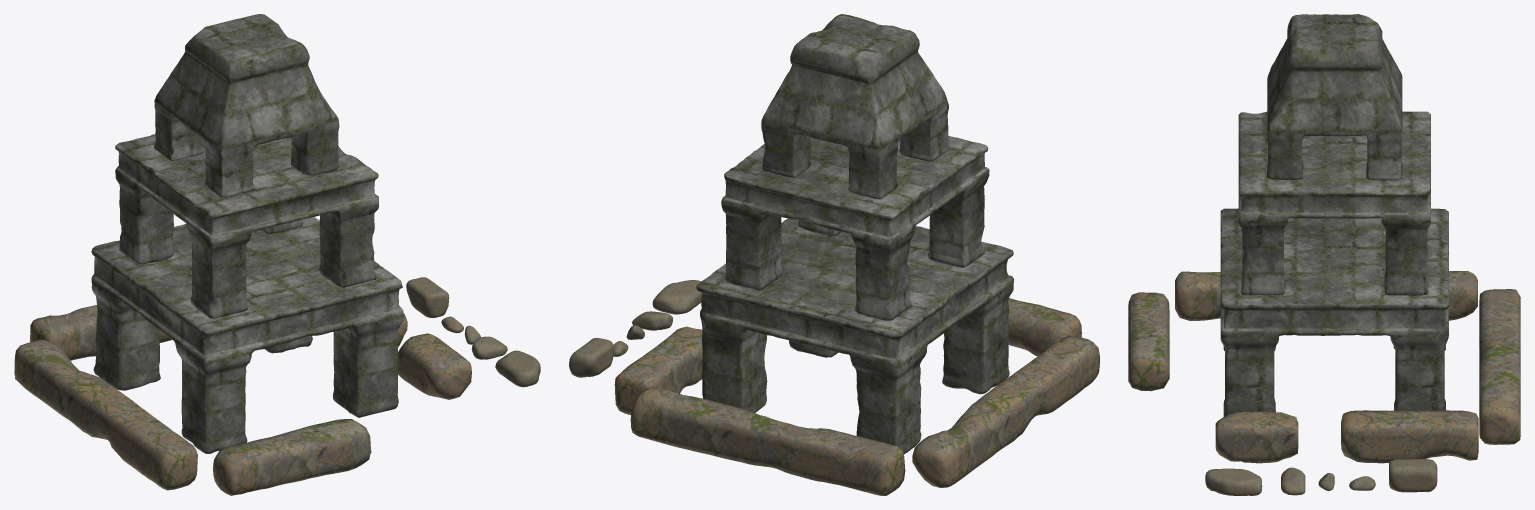
The model's file is oldRuinedTemple_edit_for_FBX.fbx.
3 views of the same model, side by side, from view 1: azimuth 30°, elevation 25°; view 2: azimuth 150°, elevation 25°; view 3: azimuth 270°, elevation 25° (orthographic). The views are drawn at different scales.
Parts seen in each view (by area): view 1: oldRuinedTemple_temple, oldRuinedTemple_wall, oldRuinedTemple_stone; view 2: oldRuinedTemple_temple, oldRuinedTemple_wall, oldRuinedTemple_stone; view 3: oldRuinedTemple_temple, oldRuinedTemple_wall, oldRuinedTemple_stone.
Part boxes in pixels (x1,y1,x2,y2): oldRuinedTemple_temple: (91,14,403,453); oldRuinedTemple_wall: (14,305,471,495); oldRuinedTemple_stone: (406,277,540,387); oldRuinedTemple_temple: (696,14,1013,454); oldRuinedTemple_wall: (614,298,1099,495); oldRuinedTemple_stone: (569,280,701,377); oldRuinedTemple_temple: (1220,14,1448,416); oldRuinedTemple_wall: (1128,271,1520,463); oldRuinedTemple_stone: (1205,459,1437,495).
Bounding box in the file's own units: 2000 × 1697 × 1712.
